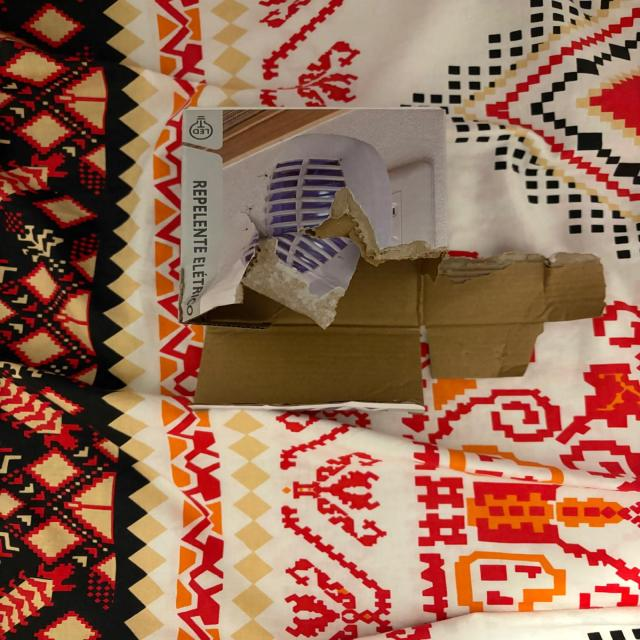damaged_package: (180, 108, 604, 411)
